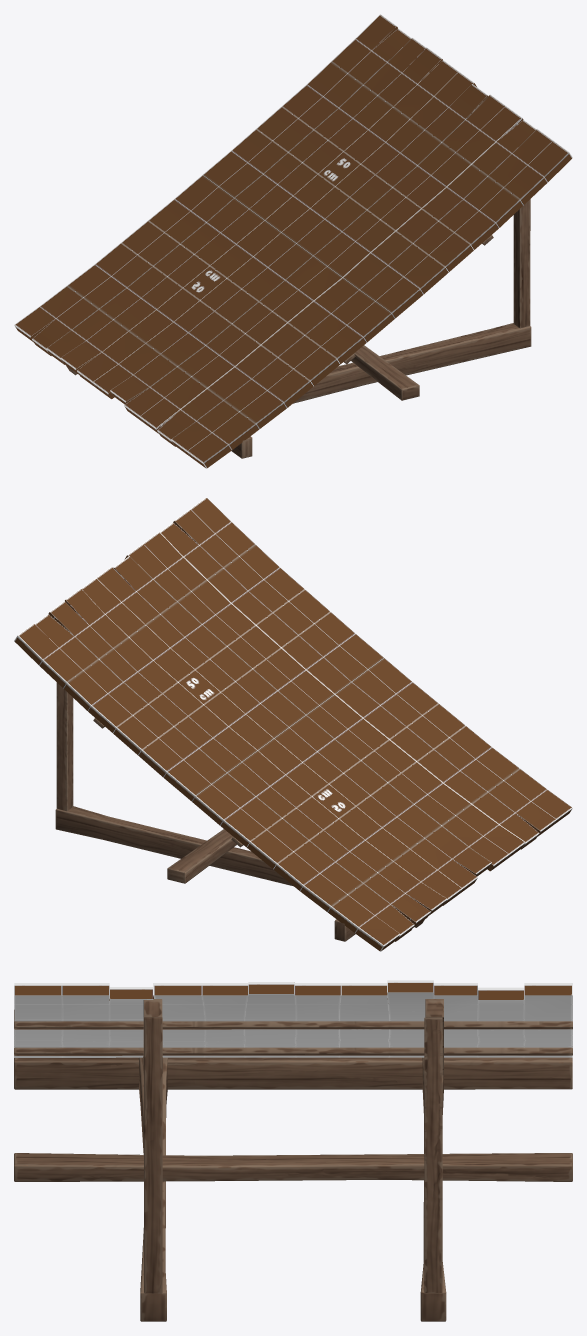
The model's file is Hangar01RM_2.FBX.
The picture shows the model from 3 angles, top to bottom: view 1: azimuth 30°, elevation 25°; view 2: azimuth 150°, elevation 25°; view 3: azimuth 270°, elevation 25°; orthographic projection. The views are drawn at different scales.
Visible parts, largest first — view 1: Hangar01RM_2; view 2: Hangar01RM_2; view 3: Hangar01RM_2.
Part boxes in pixels (bbox=[...]): Hangar01RM_2: bbox=[14, 14, 572, 468]; Hangar01RM_2: bbox=[14, 497, 572, 951]; Hangar01RM_2: bbox=[14, 980, 572, 1321].
Size of what is drawn, in the model's own units: 5.13 by 3.15 by 4.5.
